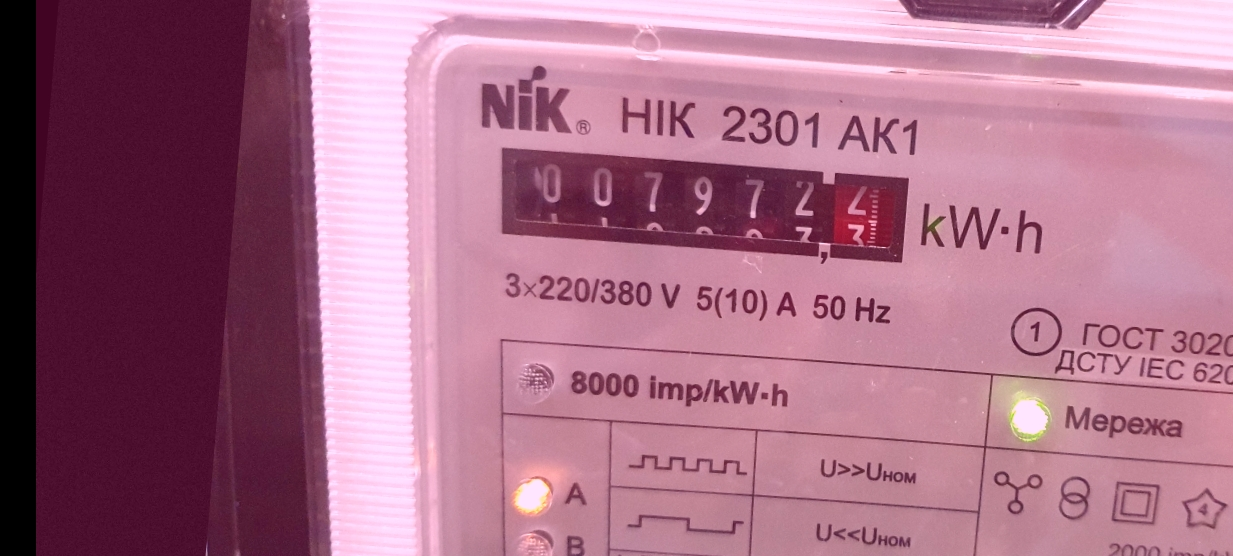0: (538, 160, 568, 203), (590, 163, 617, 207)
2: (793, 178, 819, 217), (845, 182, 870, 217)
3: (844, 219, 868, 246)
7: (740, 174, 769, 222), (639, 167, 667, 213)
9: (690, 171, 716, 216)
screen: (479, 130, 929, 281)
